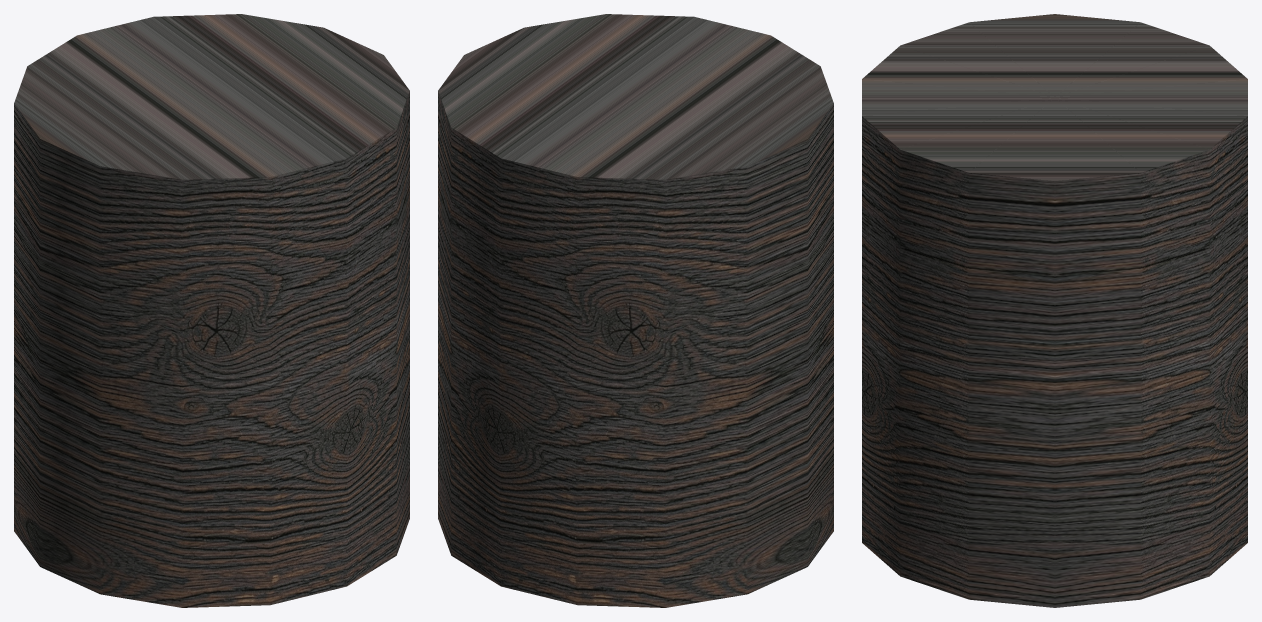
Rendered from darkoaklog_v.glb.
The picture shows the model from 3 angles, left to right: view 1: azimuth 30°, elevation 25°; view 2: azimuth 150°, elevation 25°; view 3: azimuth 270°, elevation 25°; orthographic projection.
Visible parts, largest first — view 1: Birch_Log_H_Birch; view 2: Birch_Log_H_Birch; view 3: Birch_Log_H_Birch.
Part boxes in pixels (x1=…): Birch_Log_H_Birch: x1=14, y1=14, x2=409, y2=607; Birch_Log_H_Birch: x1=438, y1=14, x2=833, y2=607; Birch_Log_H_Birch: x1=862, y1=14, x2=1247, y2=607.
Bounding box in the file's own units: 0.84 × 1 × 0.8189.
1 material, 1 textured.
